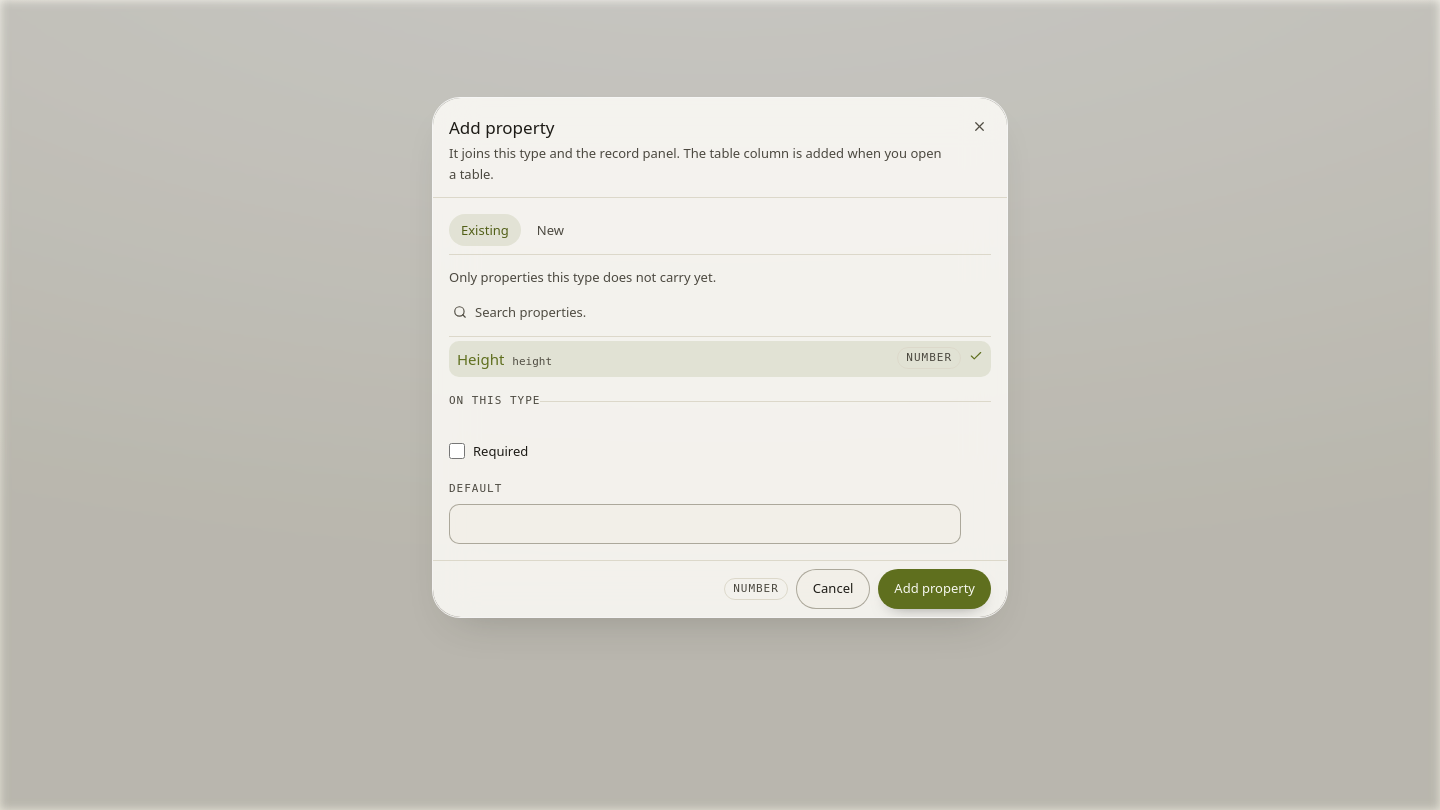
Scenario: AddPropertyDialog › offers a currency for a sum but never for a count
This screenshot has width=1440, height=810.
Click the tab "New".
click(550, 230)  # box [525, 214, 576, 246]
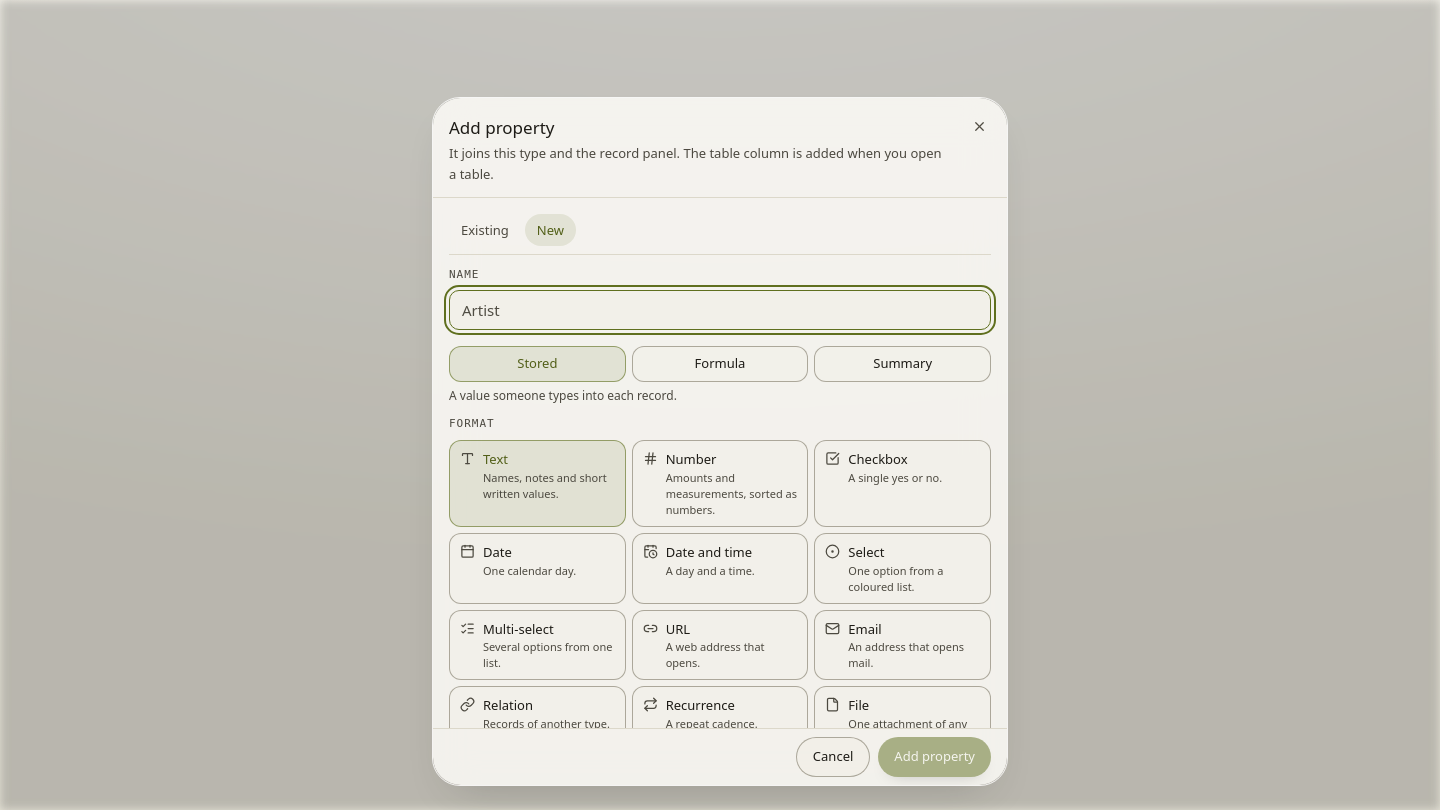
Click the radio button labelled "Summary".
click(903, 364)  # box [814, 346, 991, 382]
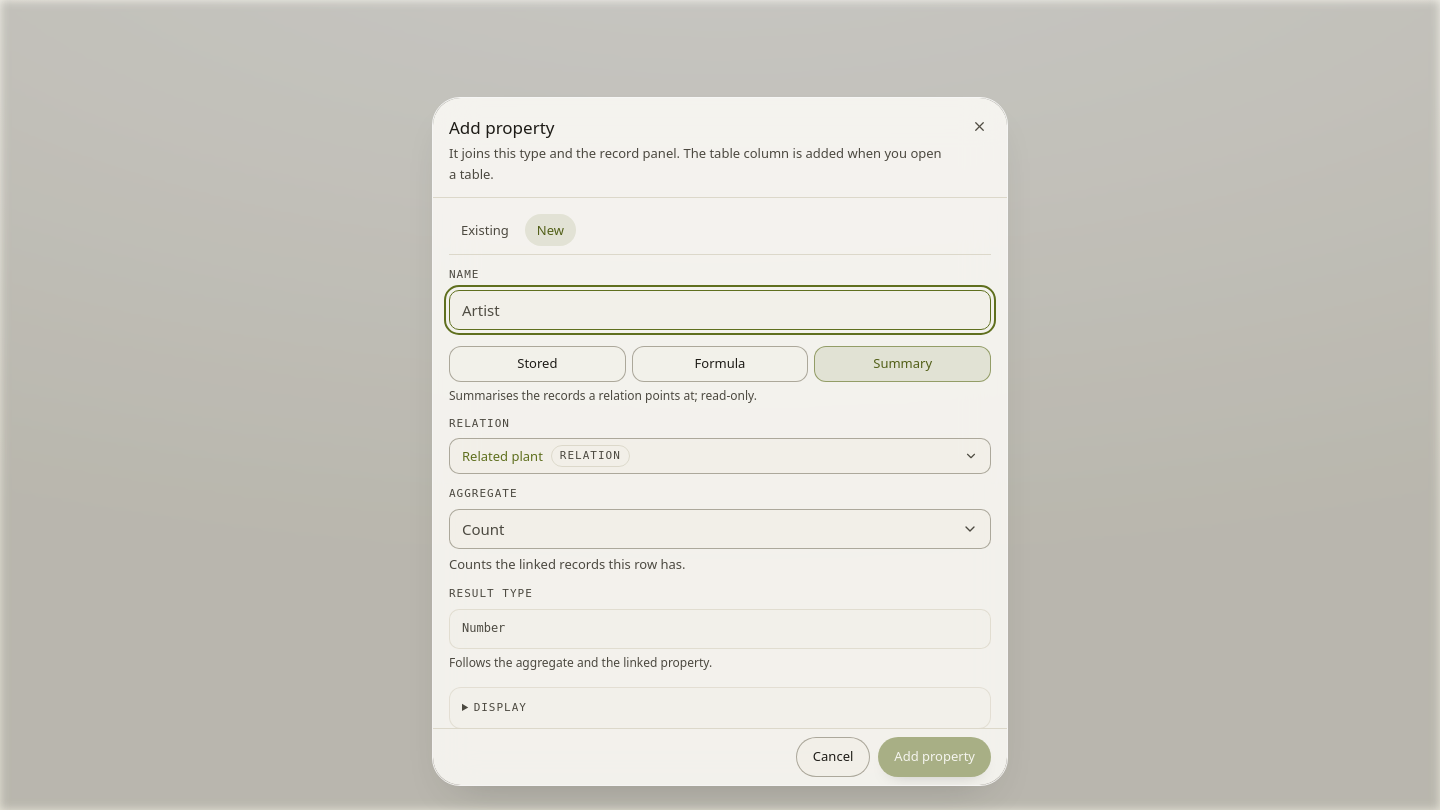
Click the heading "Display".
click(500, 707)  # box [474, 701, 527, 714]
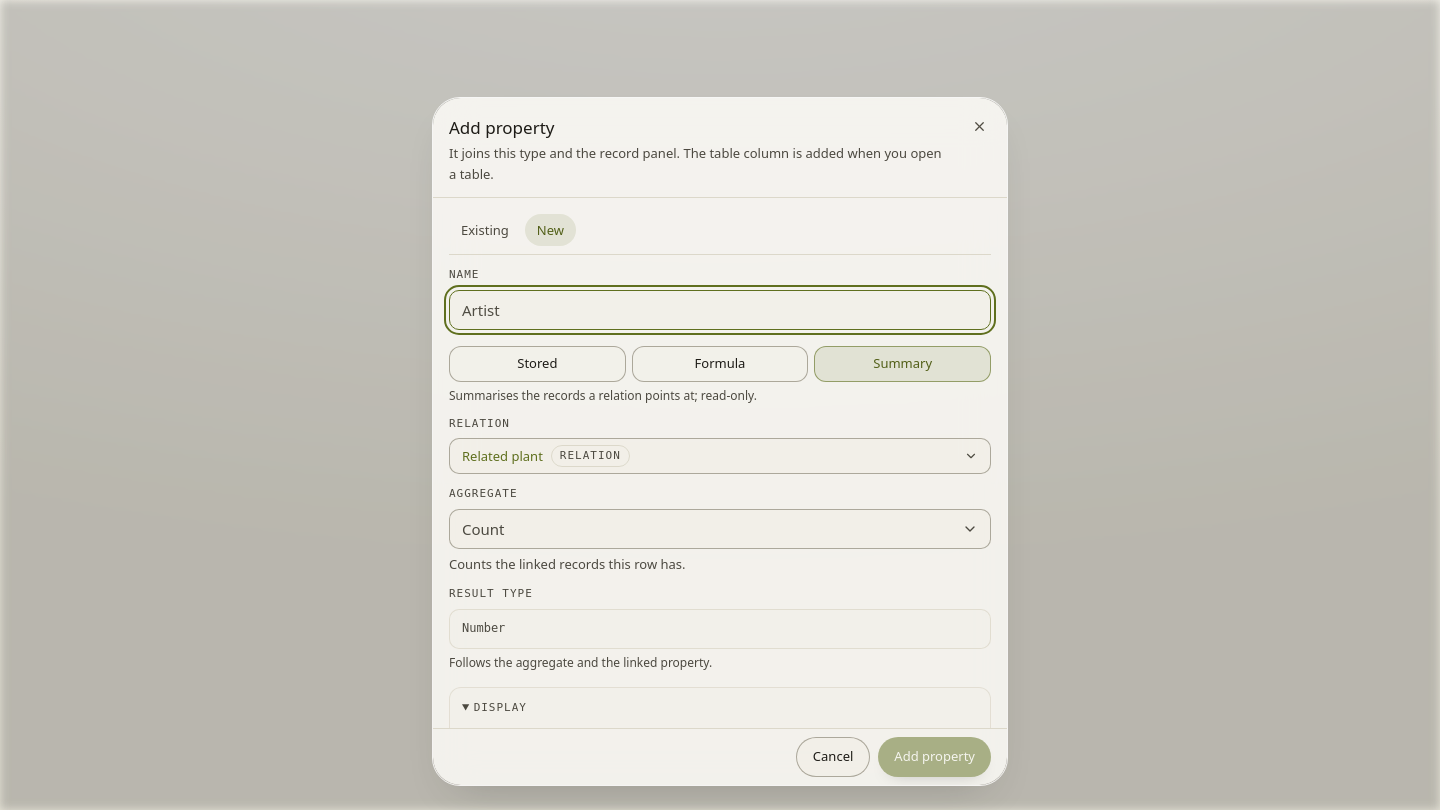
expect the field labelled "Currency" is not shown: met
expect the field labelled "Decimals" is not shown: met
Click the dropdown named "Aggregate".
click(483, 529)  # box [449, 509, 991, 549]
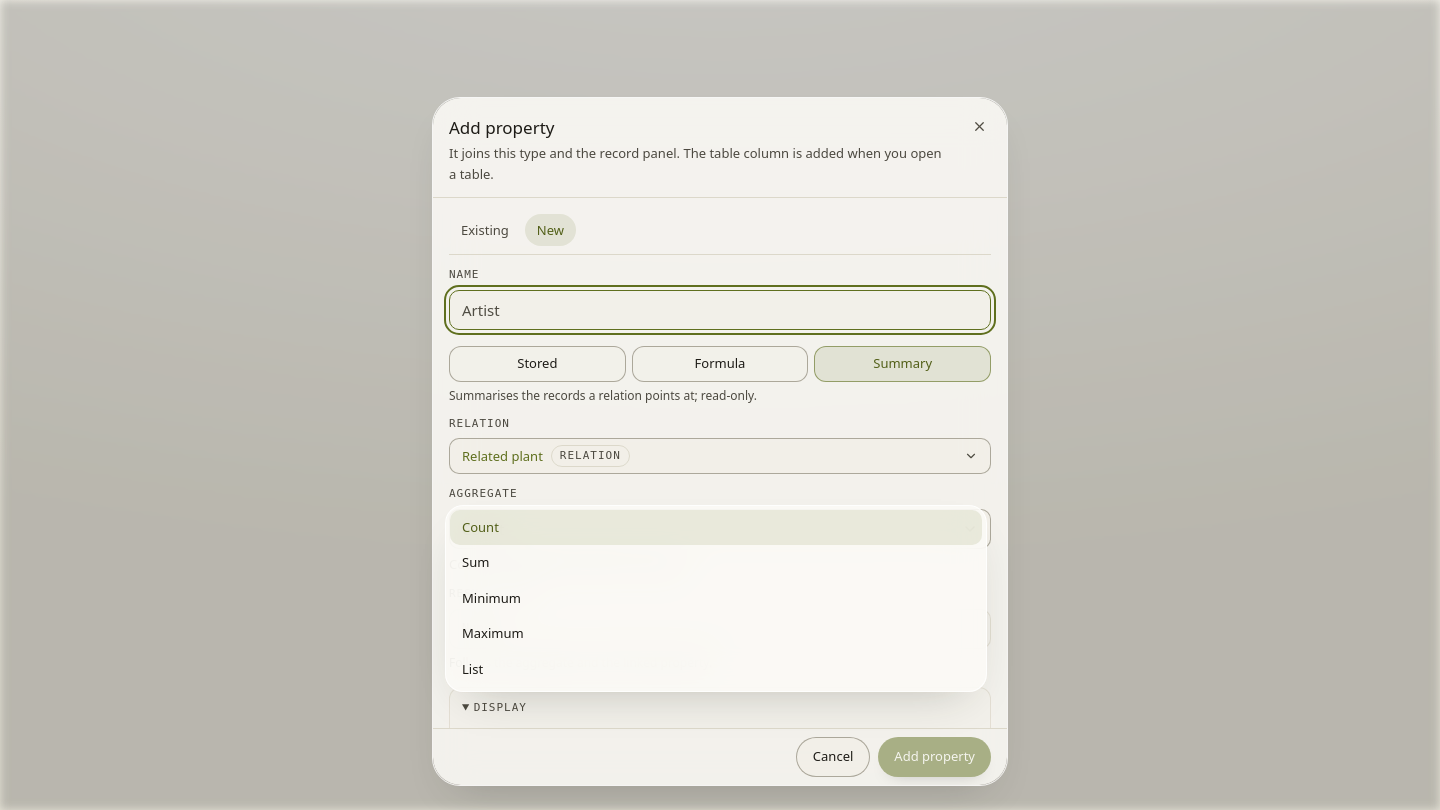
Click the option "Sum".
click(476, 562)  # box [462, 553, 489, 571]
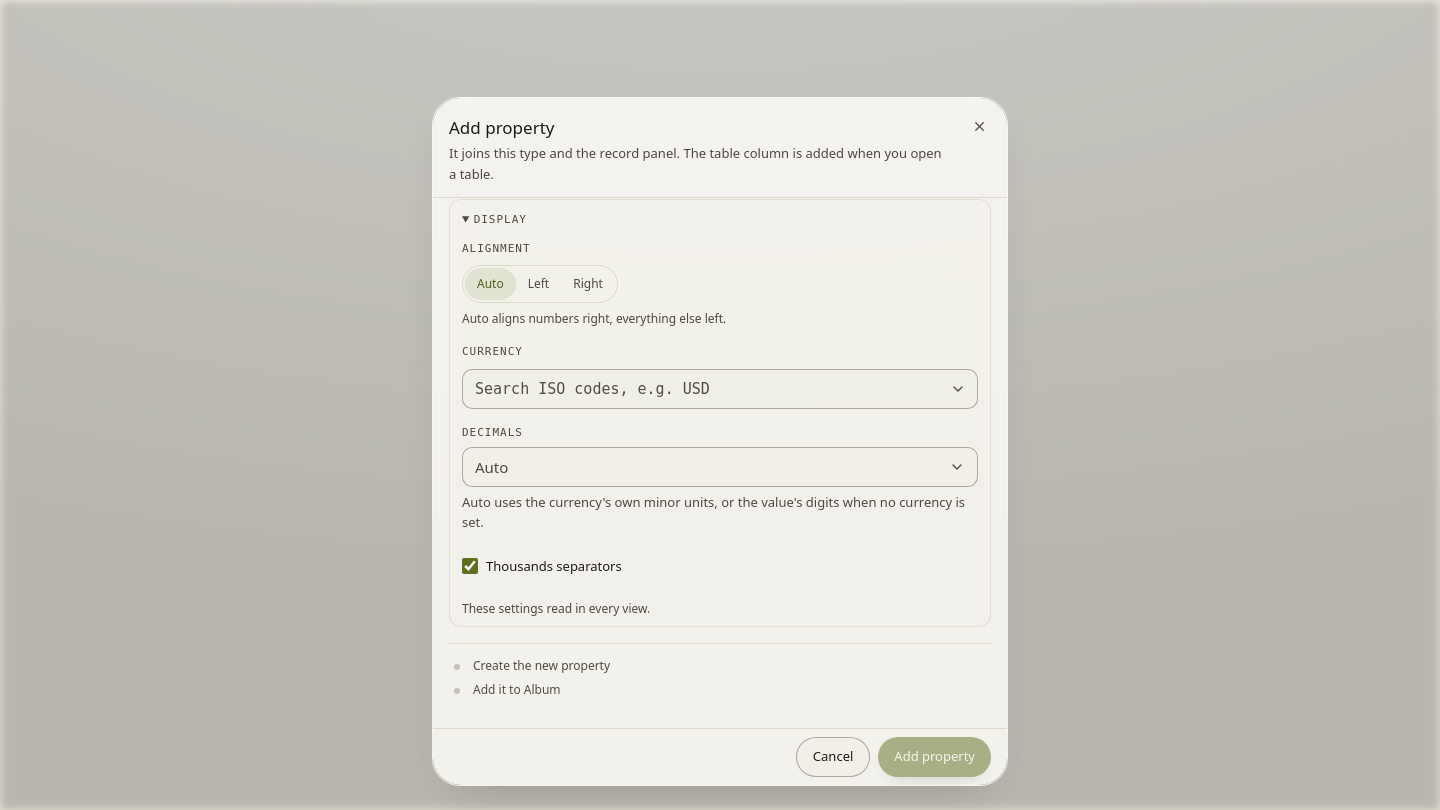
expect the dropdown named "Currency" is shown: met, box [462, 369, 978, 409]
expect the dropdown named "Decimals" is shown: met, box [462, 447, 978, 487]
